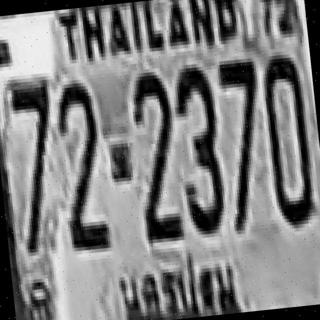N00: (259, 51, 315, 225)
N02: (51, 80, 108, 247), (128, 69, 183, 232), (53, 92, 109, 248), (53, 78, 107, 235), (128, 69, 181, 222)
N03: (170, 62, 227, 232)
N07: (6, 76, 64, 250), (216, 54, 270, 228)
P28: (105, 242, 248, 320)
